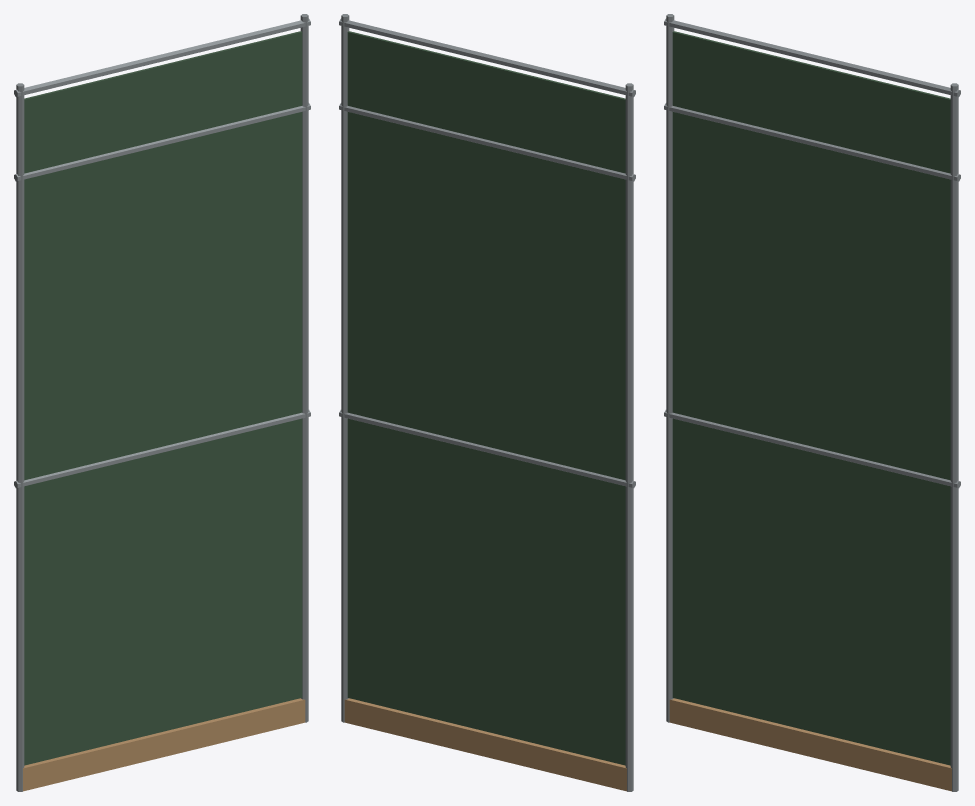
The model's file is prop_scaffold_bay_w200_h460.glb.
3 renders of one model, left to right at view 1: azimuth 30°, elevation 25°; view 2: azimuth 150°, elevation 25°; view 3: azimuth 330°, elevation 25°, orthographic.
Visible parts, largest first — view 1: Body; view 2: Body; view 3: Body.
Boxes of the visible parts, x1,y1,x2,y2 form: Body: [14, 14, 310, 791]; Body: [339, 14, 635, 791]; Body: [664, 14, 960, 791].
Size of the model in its own units: 2 by 4.6 by 0.048.
